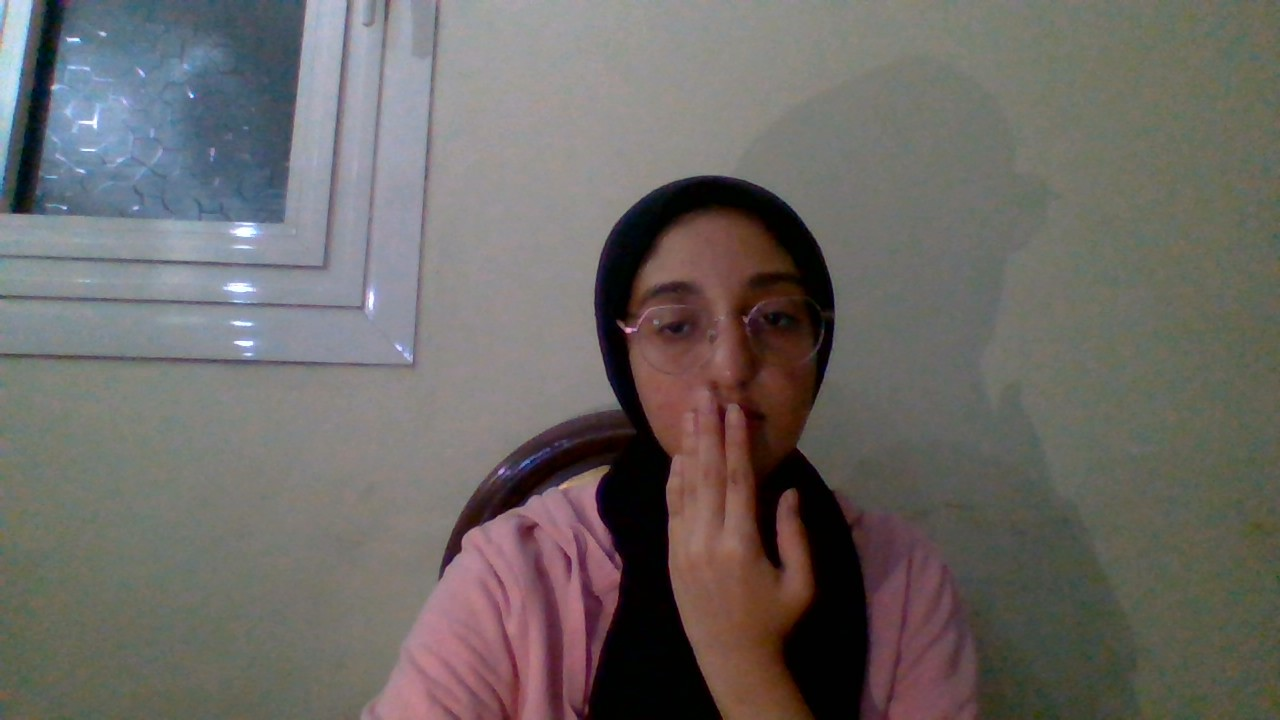thankyou: (483, 363, 900, 669)
